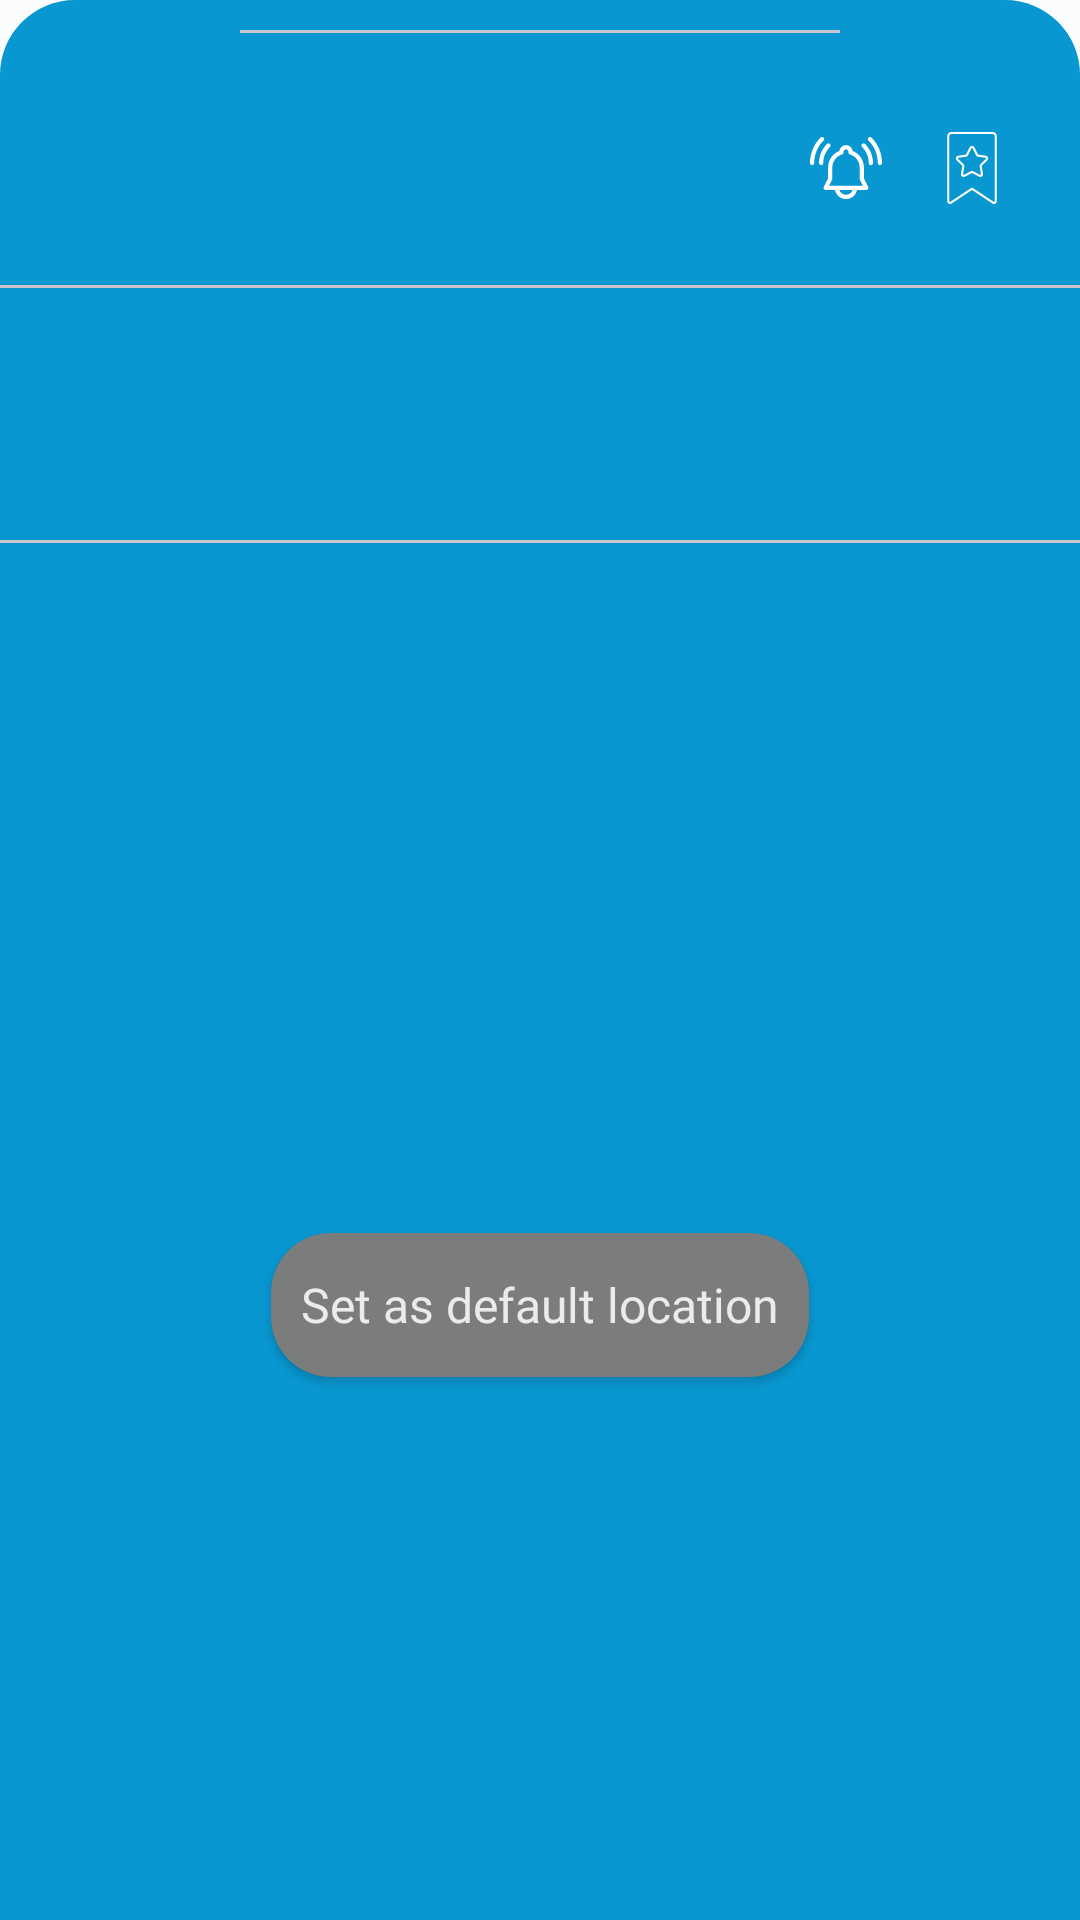

Icon click points for this 1080×1920 phone screenshot, format (x,y):
add bookmark: (972,168)
alert: (846,168)
